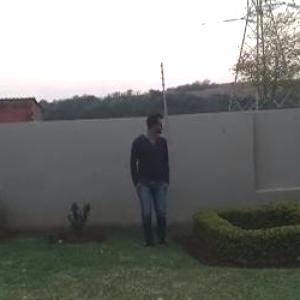follow: (126, 107, 172, 258)
